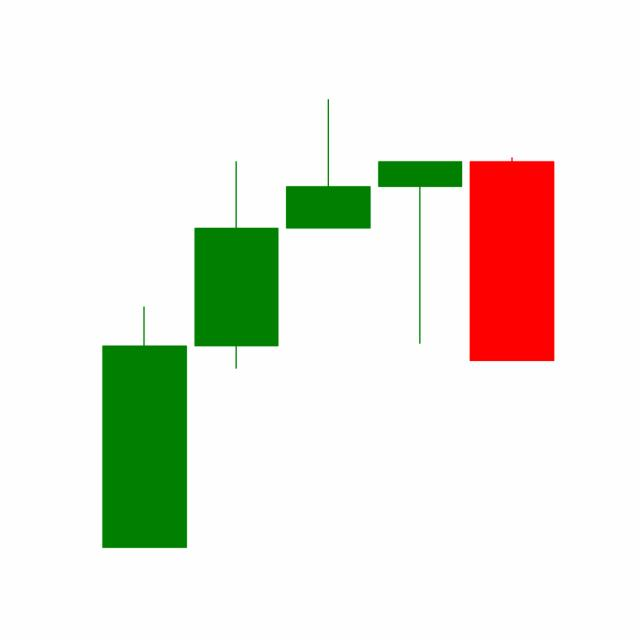Hammer: (373, 158, 467, 346)
